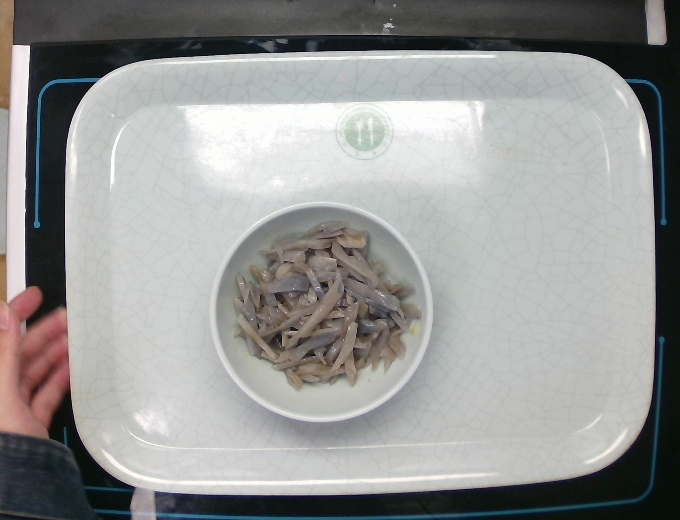JYsf-Fan_Wan: (207, 200, 435, 425)
